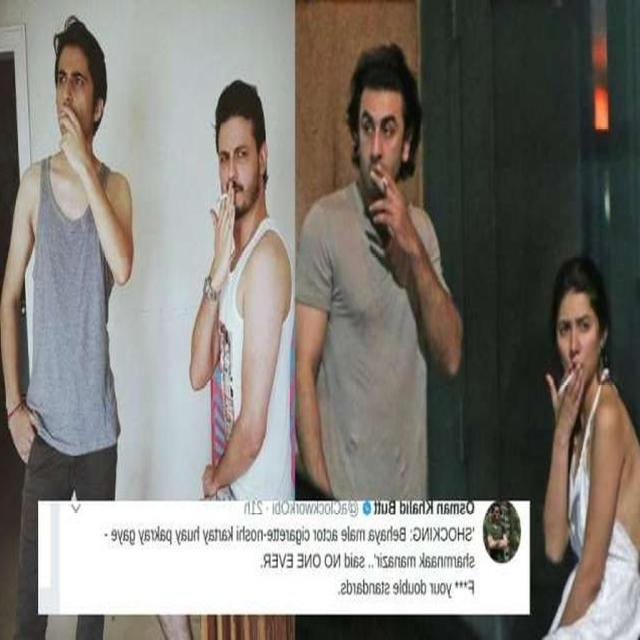smoking: (542, 325, 581, 416), (352, 157, 418, 208), (206, 181, 276, 228), (37, 98, 113, 125)
